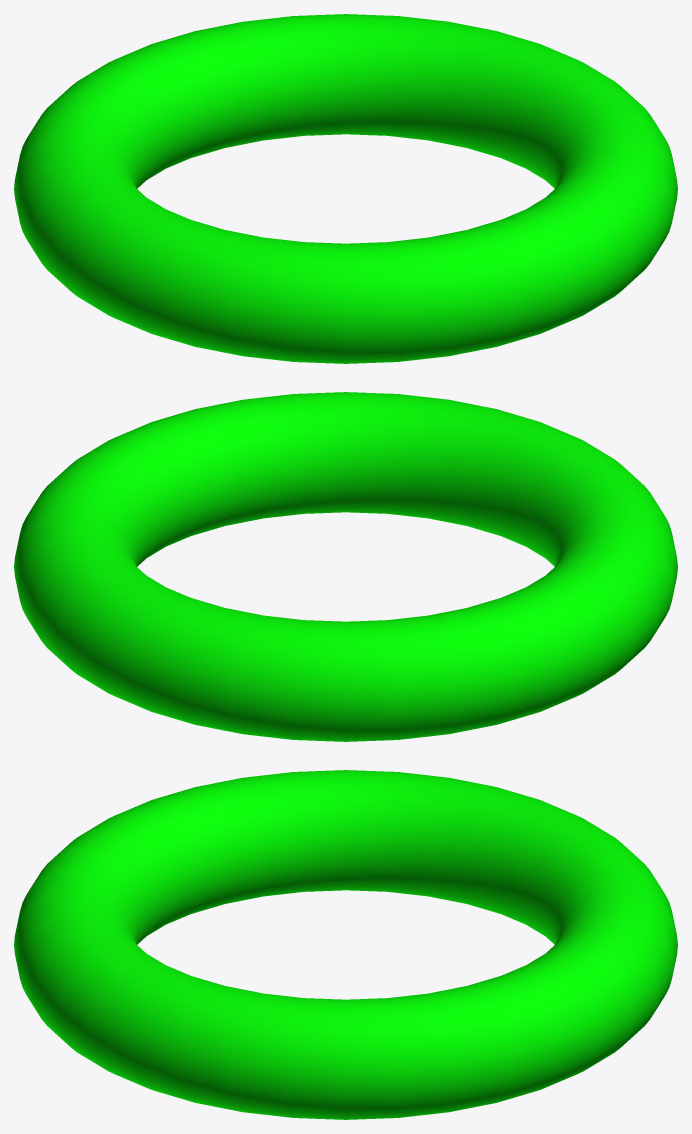
3 views of the same model, one above another, from view 1: azimuth 30°, elevation 25°; view 2: azimuth 150°, elevation 25°; view 3: azimuth 270°, elevation 25° (orthographic).
Visible parts, largest first — view 1: Crystal; view 2: Crystal; view 3: Crystal.
Boxes of the visible parts, x1,y1,x2,y2 form: Crystal: [14, 14, 677, 363]; Crystal: [14, 392, 677, 741]; Crystal: [14, 770, 677, 1119].
Bounding box in the file's own units: 0.2794 × 0.0508 × 0.2794.
